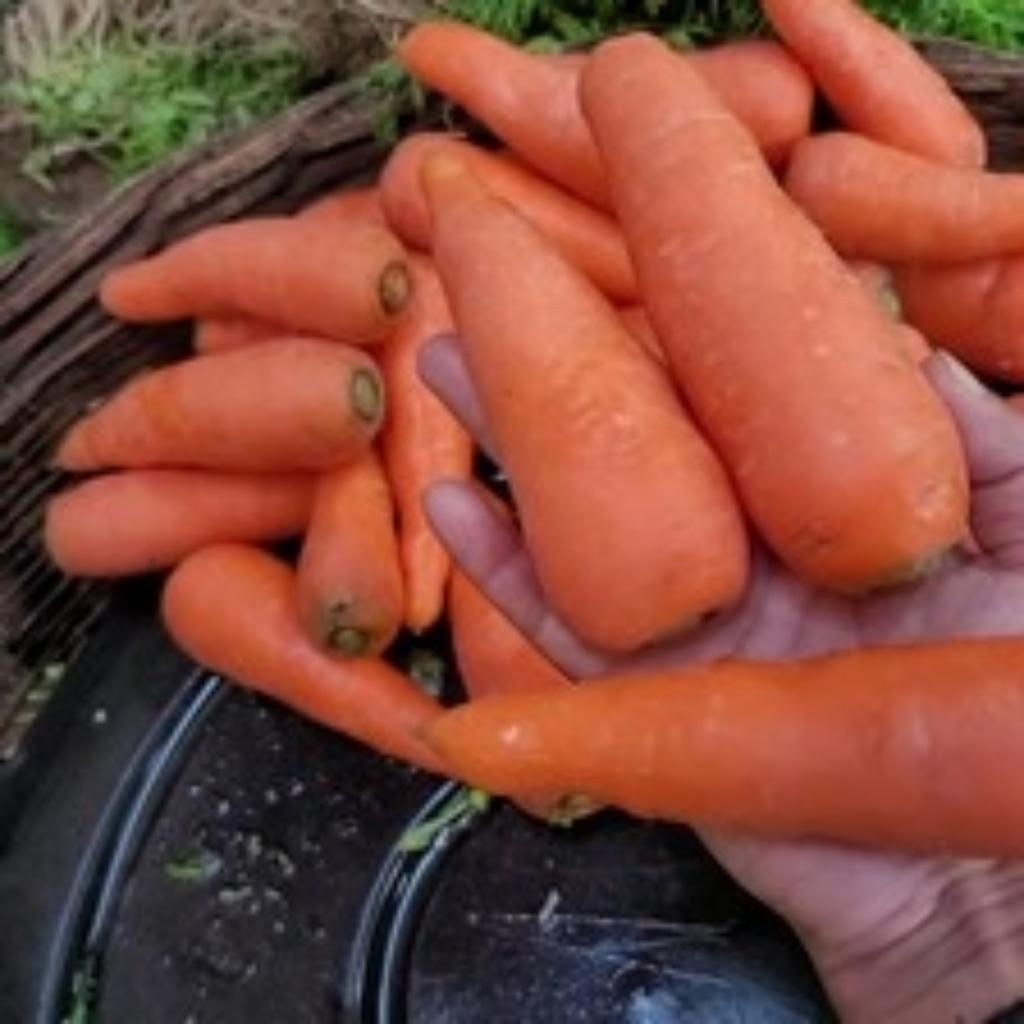carrot: (46, 0, 1015, 846)
